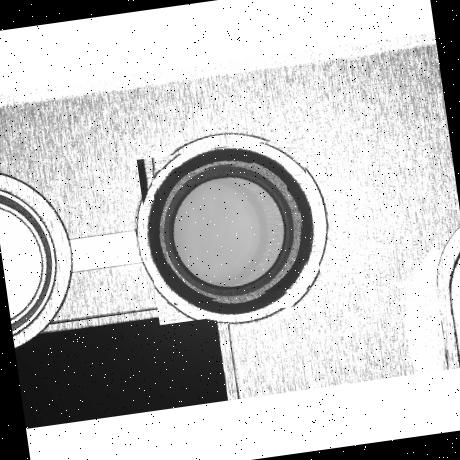Hole: (136, 136, 324, 324)
Hole2: (150, 150, 310, 309)
Hole3: (156, 158, 300, 305)
Hole4: (167, 171, 290, 294)
